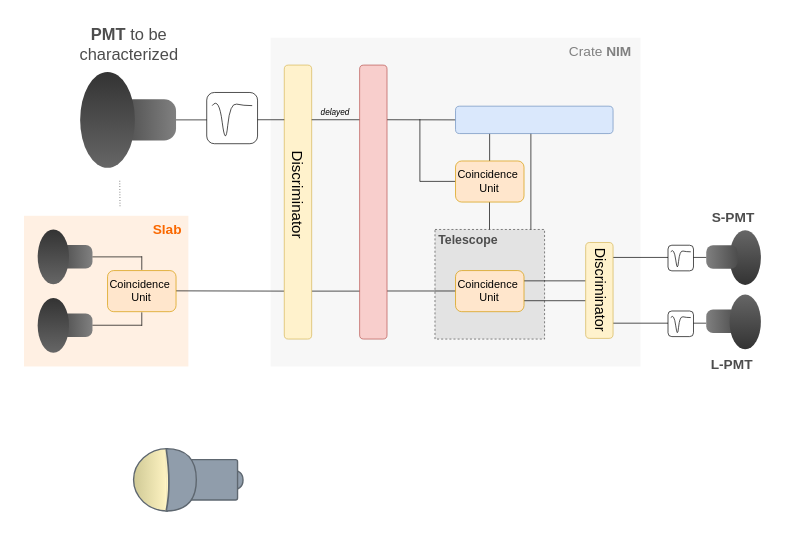
The diagram is 797 pixels wide and 534 high, and some of its shapes have lost their labels. The centre of each missing label's shape, as x and y in pixels:
"Fan-In Fan-Out" belongs at pixel 373 201.
"Scaler" belongs at pixel 534 119.
